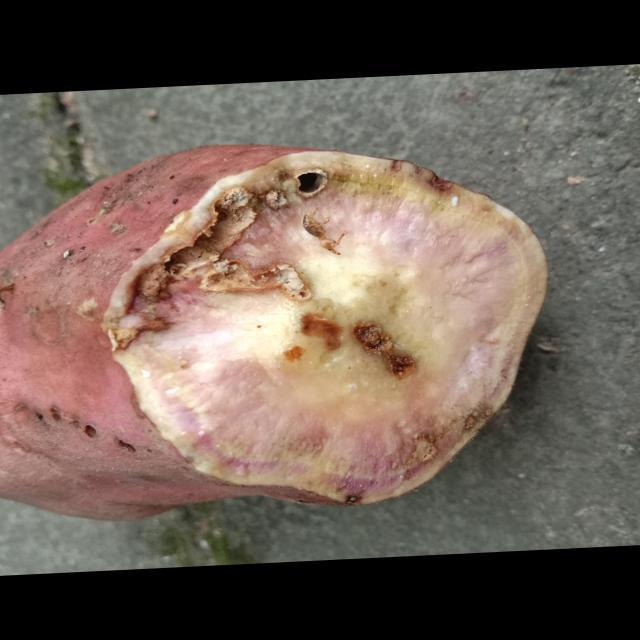Sick Sweet Potato_Tuber Rot: (103, 151, 547, 504)
